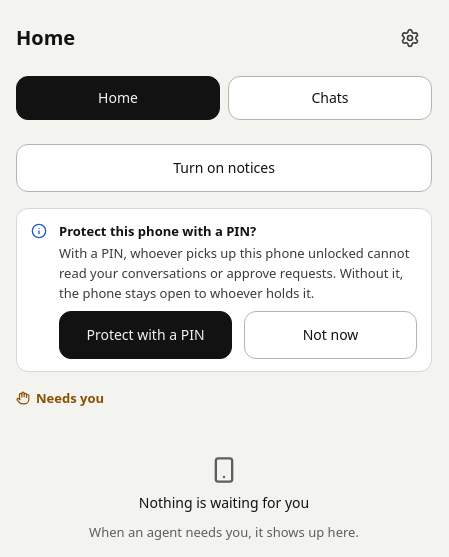
Test: the notice on the inbox › yes takes the owner to the PIN
The image size is (449, 557).
What coordinates should you click on to do the following:
click the button "Protect with a PIN"
I would click on:
 (146, 335)
Its box is [59,311,232,359].
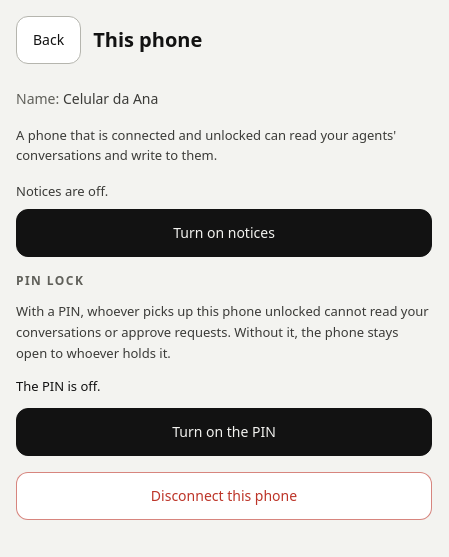
Check: the text "The PIN is off." is shown, box [16,377,100,395]
